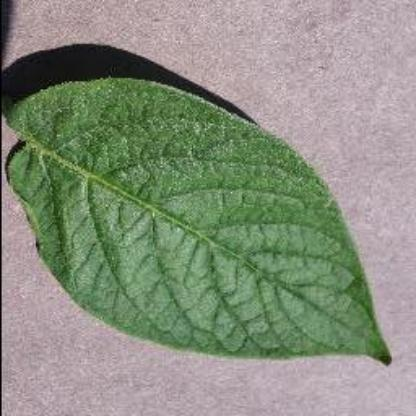Healthy-plant: (5, 75, 400, 372)
